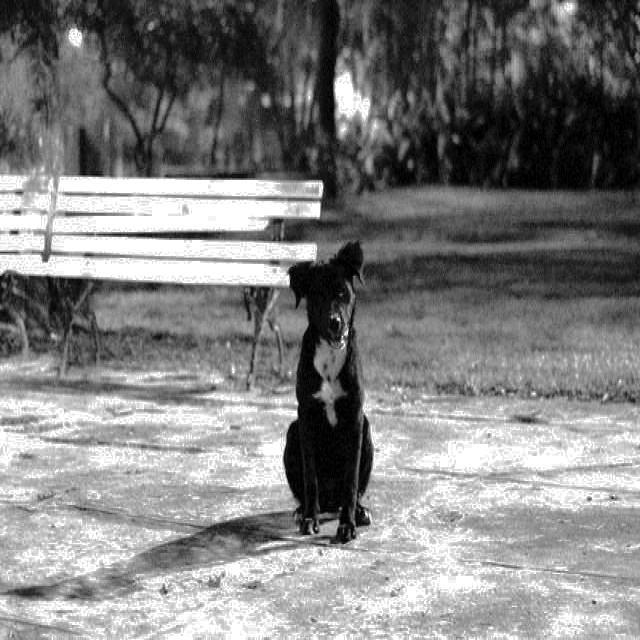Dog: (276, 238, 404, 580)
